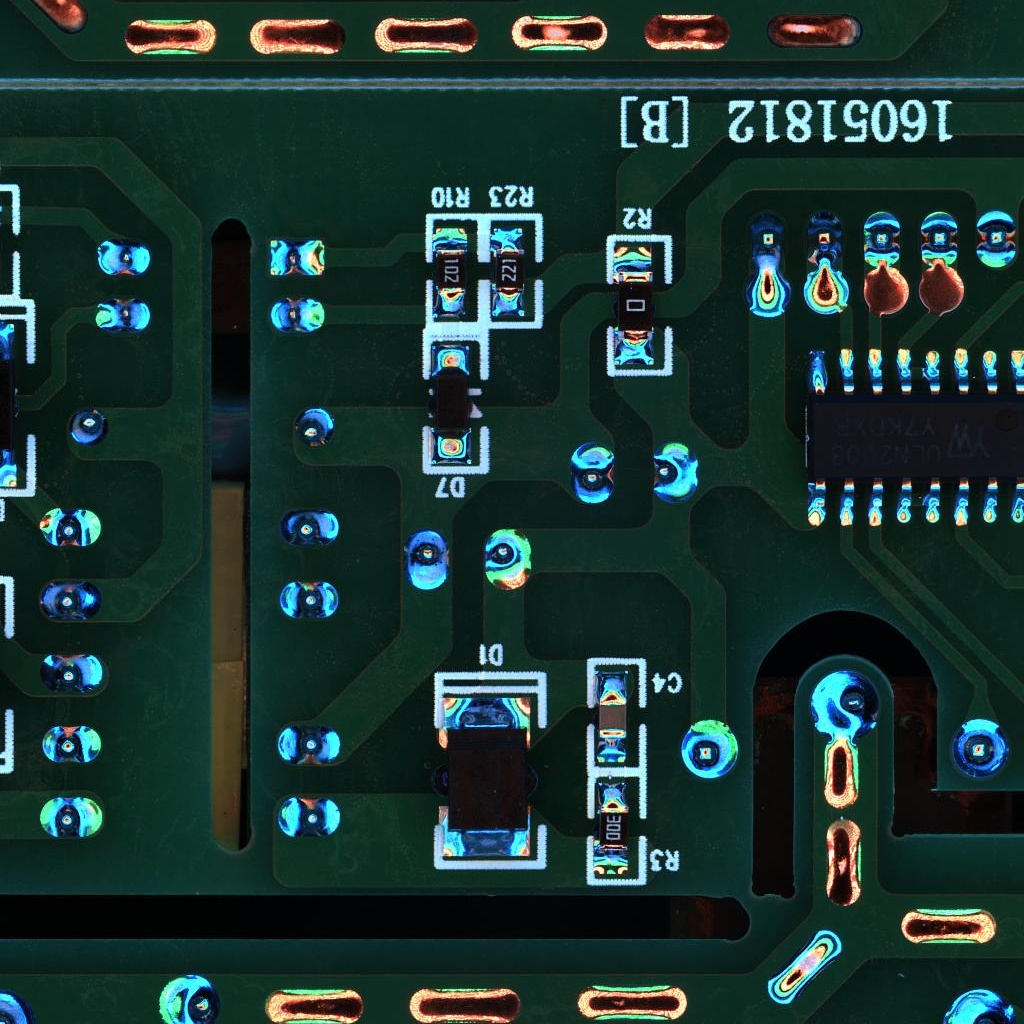spot: (806, 665, 884, 741), (679, 717, 741, 782), (154, 970, 223, 1024), (950, 718, 1012, 778), (481, 526, 534, 595), (567, 442, 619, 509), (37, 503, 106, 551), (275, 794, 343, 842), (650, 438, 700, 502), (274, 725, 345, 769), (941, 983, 1016, 1024), (404, 529, 451, 594), (37, 795, 106, 839), (35, 579, 106, 621), (279, 507, 345, 551), (38, 721, 104, 765), (39, 652, 106, 693), (276, 579, 341, 621), (976, 208, 1018, 269), (747, 202, 787, 266), (861, 208, 902, 270), (805, 206, 845, 269), (265, 295, 328, 335), (919, 209, 961, 268), (268, 236, 327, 278), (95, 237, 153, 278), (92, 296, 152, 334), (291, 404, 338, 450), (63, 406, 108, 450), (1, 989, 32, 1024)
